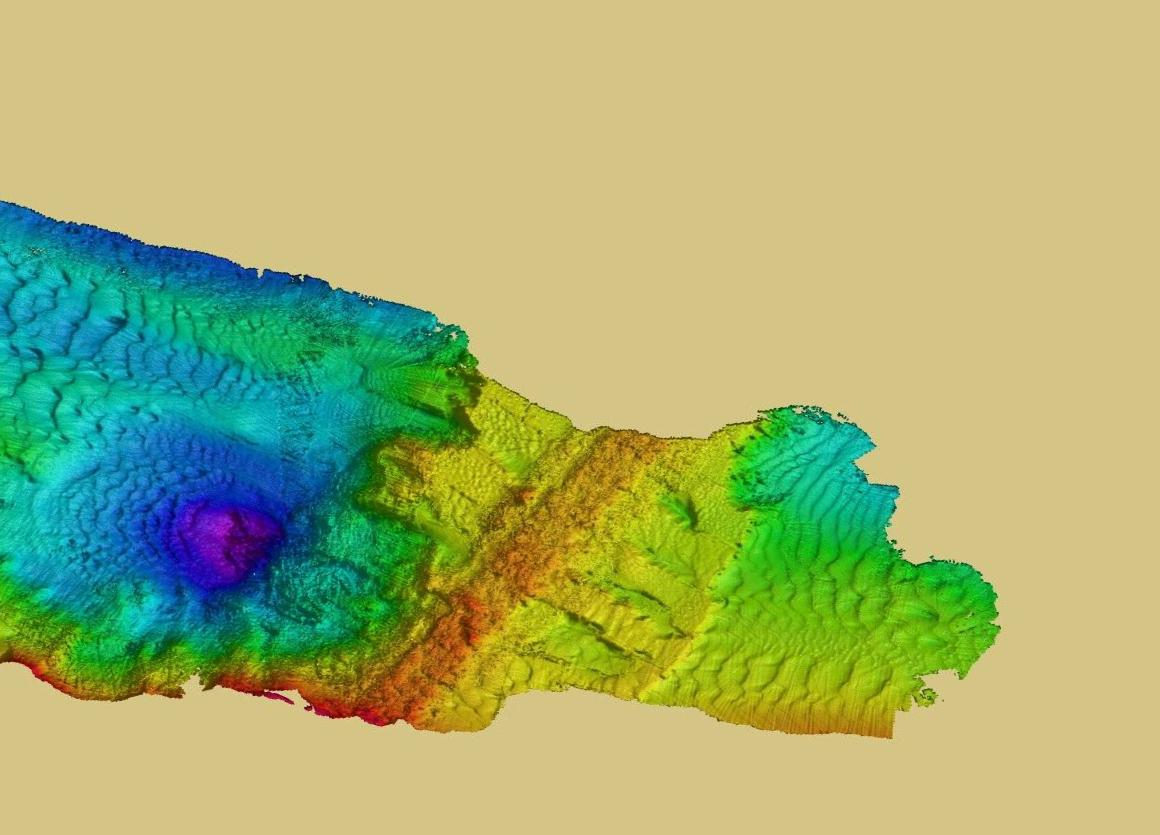Dune: (13, 255, 329, 419), (777, 408, 916, 746), (39, 449, 162, 601)
Scarp: (1, 602, 407, 763)
Scour pit: (164, 480, 302, 598)
Submerged dike: (376, 534, 565, 740), (501, 402, 647, 568)
